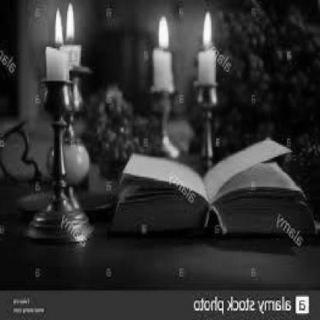Fire: (50, 0, 78, 47), (195, 8, 219, 50), (154, 11, 173, 51)
